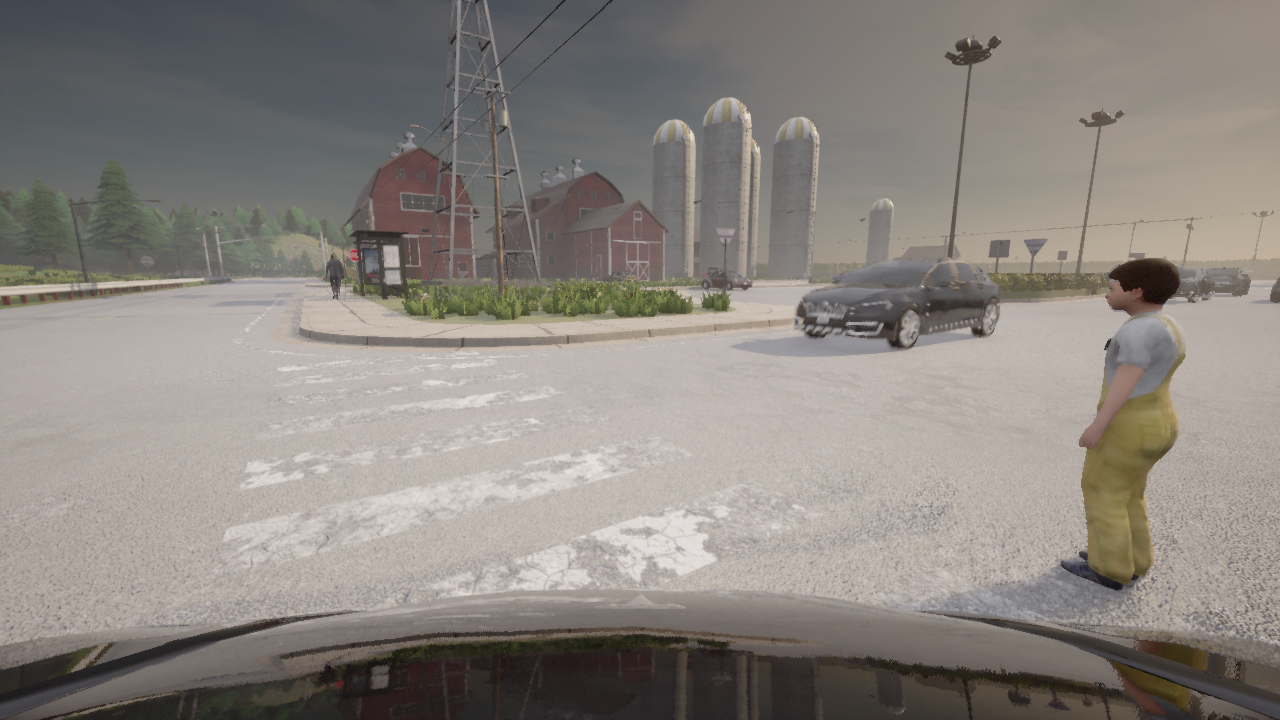cyclist: (0, 588, 1279, 719), (793, 256, 1002, 349), (1170, 266, 1213, 302), (1206, 266, 1249, 294), (701, 270, 751, 289), (603, 270, 637, 281), (1271, 278, 1279, 300), (706, 267, 723, 277), (833, 270, 854, 278)
pedestrian: (1060, 257, 1187, 589), (325, 253, 343, 300), (701, 264, 707, 278)
